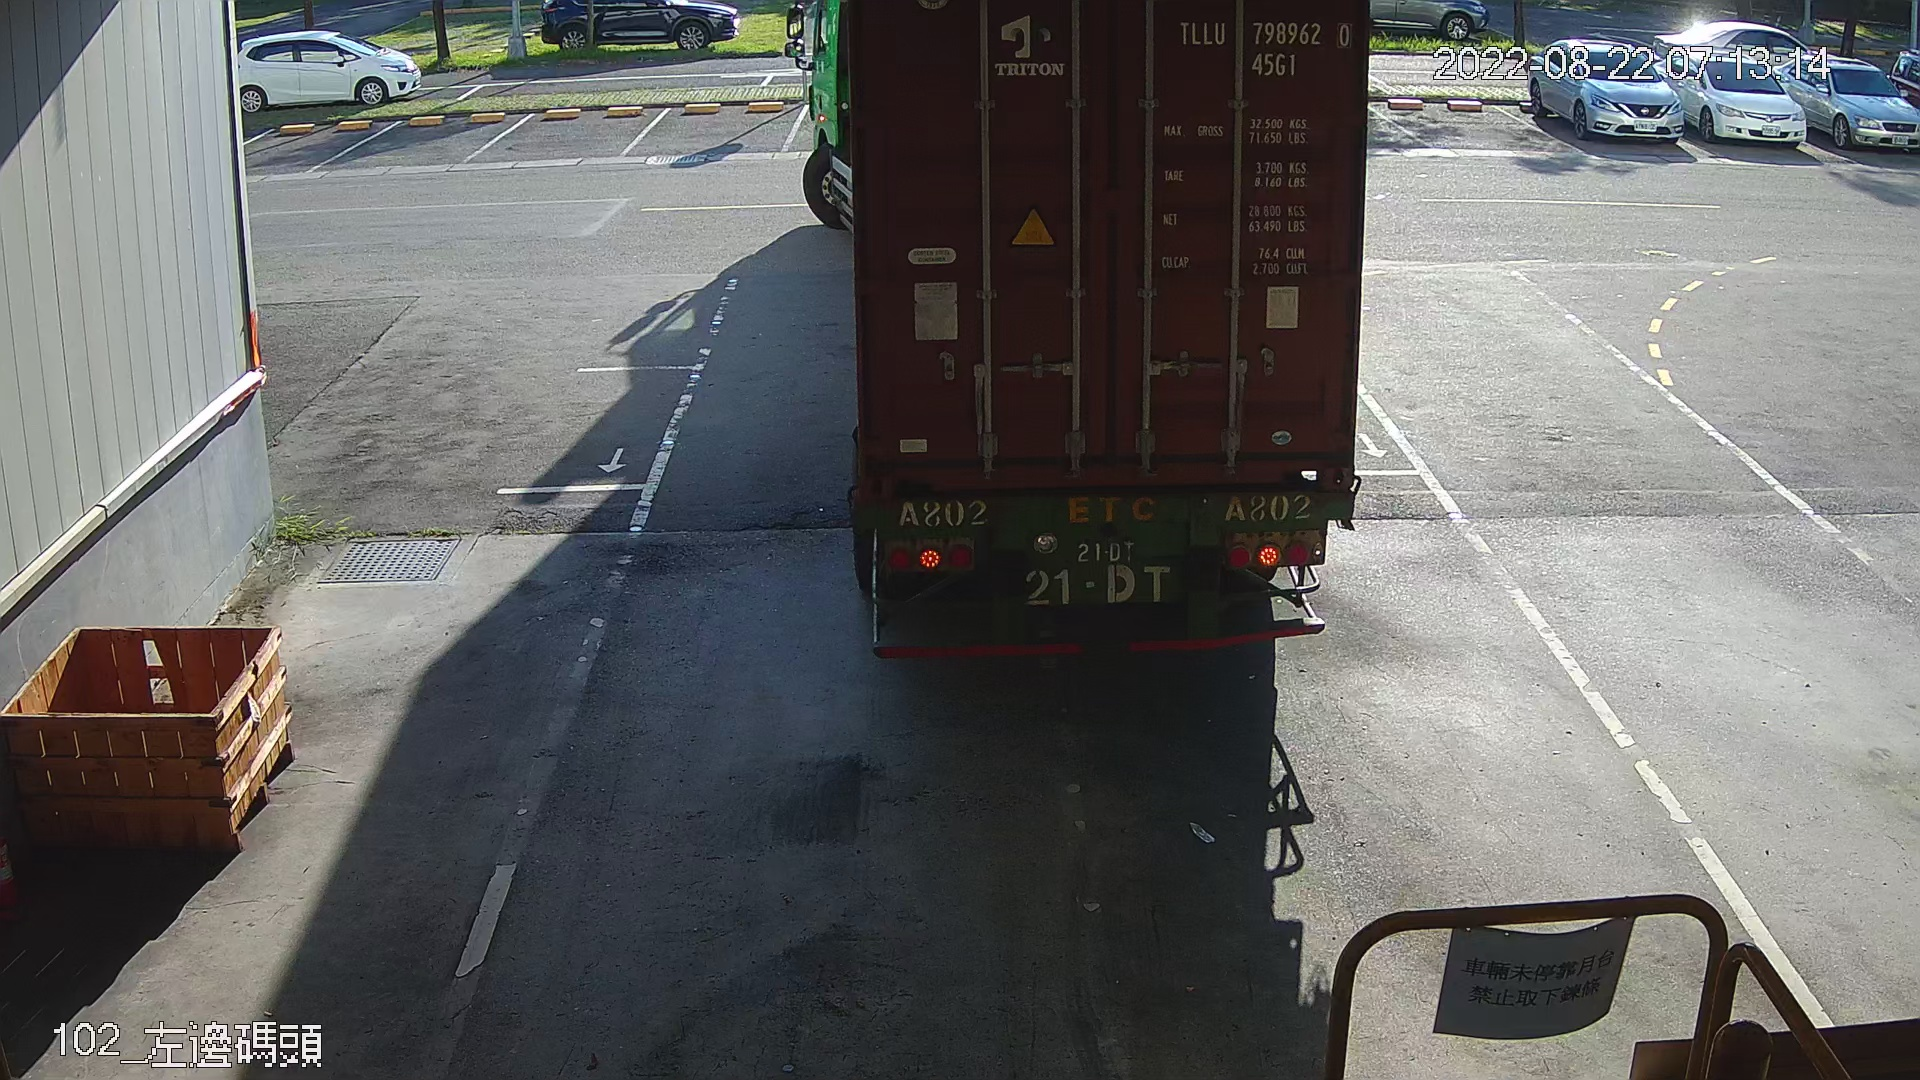container: (1168, 11, 1360, 88)
